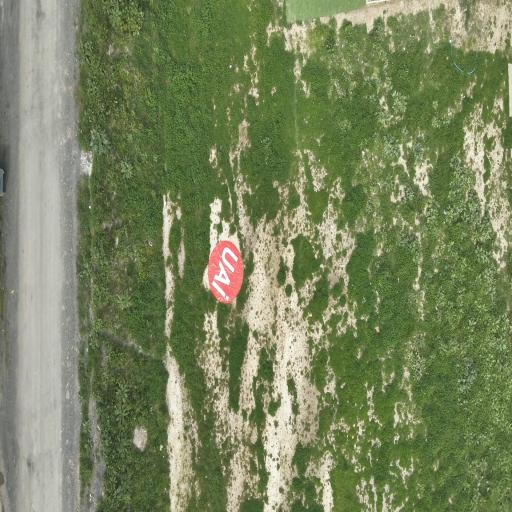UAI: (209, 241, 243, 303)
car: (0, 169, 3, 196)
